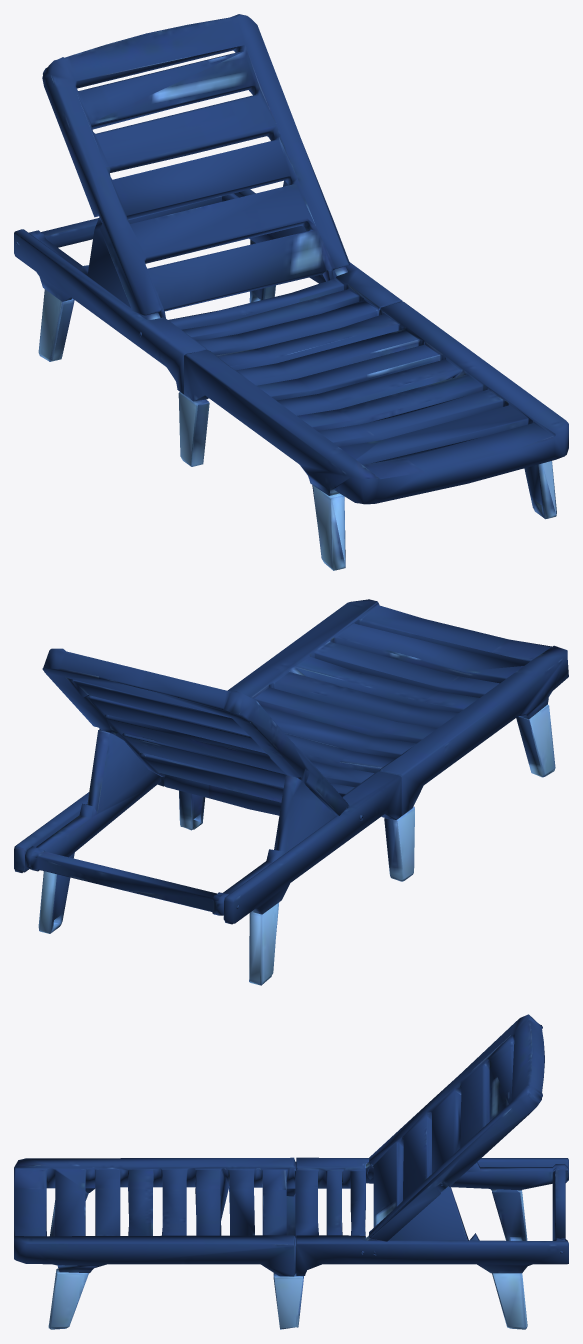
Rendered from piscina_espreguicadeira.glb.
3 views of the same model, one above another, from view 1: azimuth 30°, elevation 25°; view 2: azimuth 150°, elevation 25°; view 3: azimuth 270°, elevation 25° (orthographic). The views are drawn at different scales.
Parts seen in each view (by area): view 1: Navy Slatted Sun Lounger; view 2: Navy Slatted Sun Lounger; view 3: Navy Slatted Sun Lounger.
Boxes of the visible parts, x1,y1,x2,y2 form: Navy Slatted Sun Lounger: (14, 14, 568, 570); Navy Slatted Sun Lounger: (14, 599, 568, 985); Navy Slatted Sun Lounger: (14, 1014, 568, 1329).
Size of the model in its own units: 0.377 by 0.4668 by 0.998.
1 material, 1 textured.
